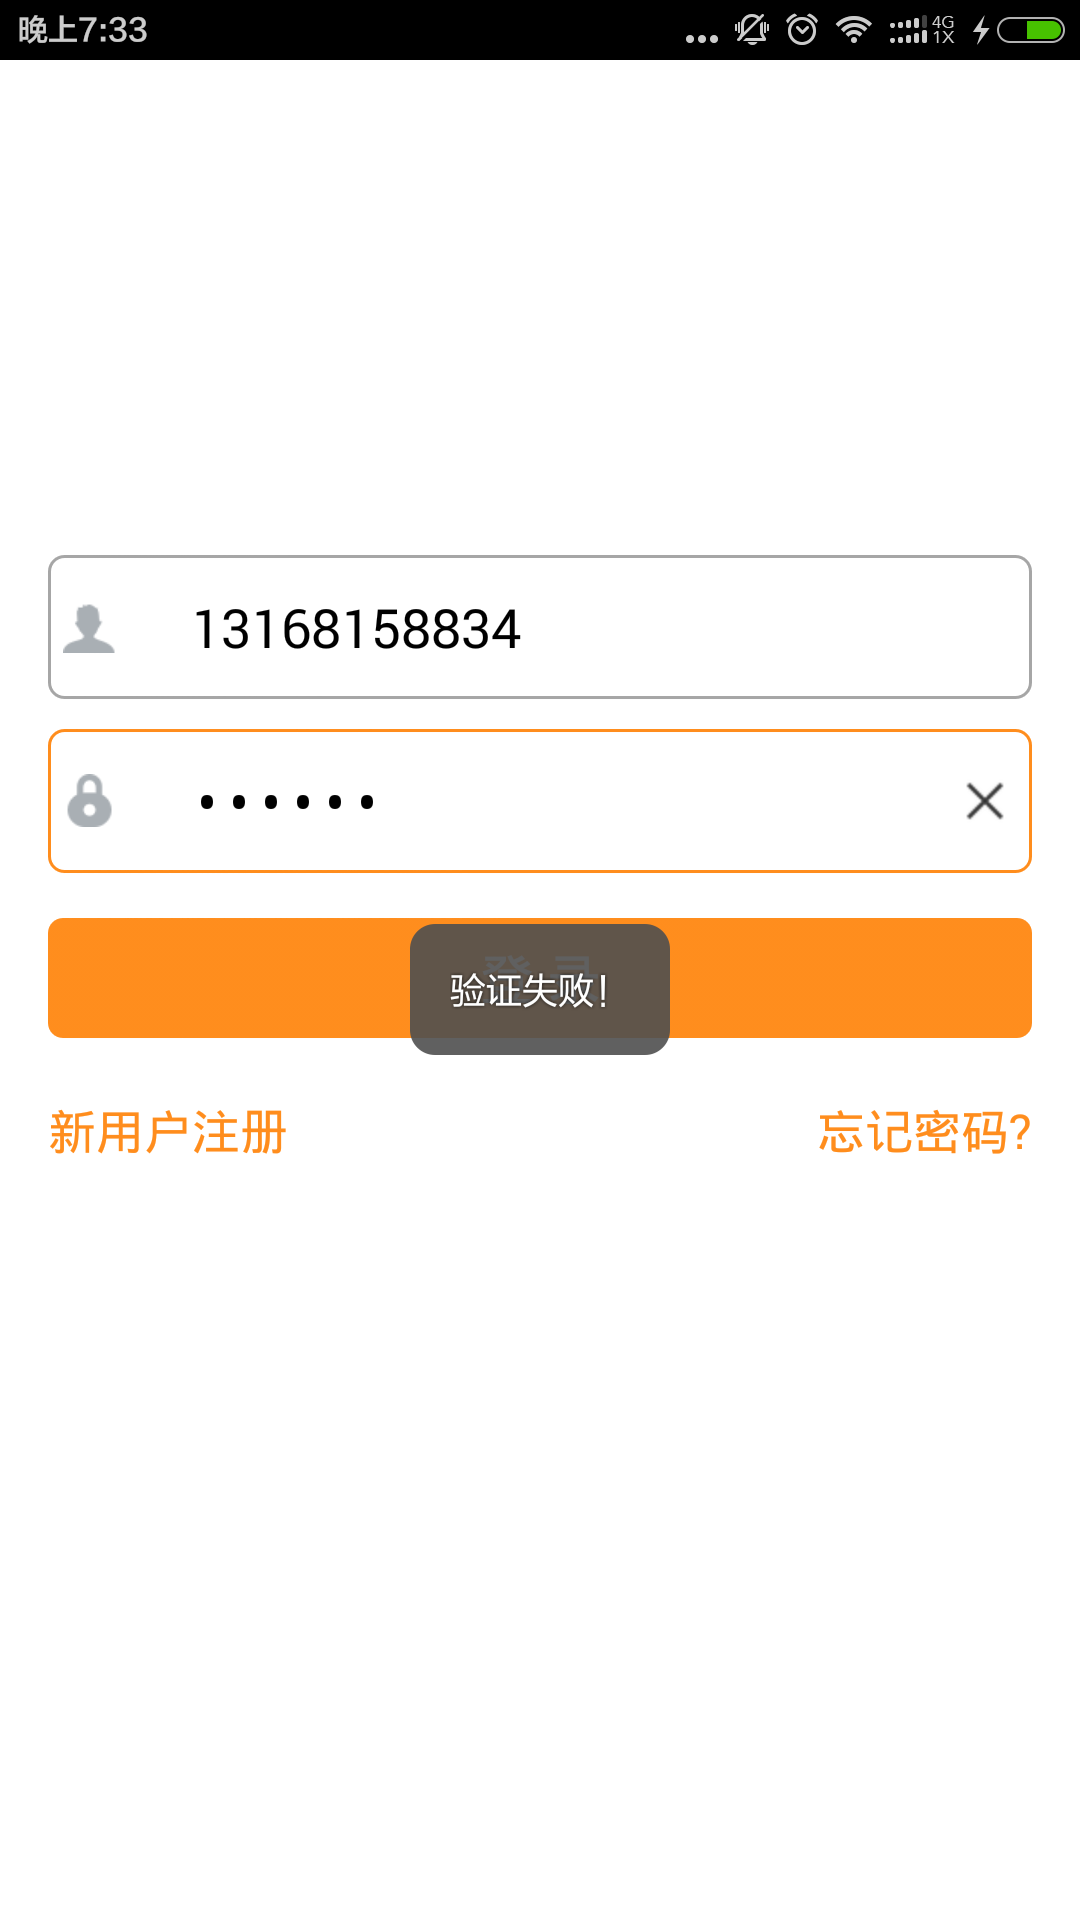alert: (404, 931, 676, 1064)
textview: (40, 724, 1040, 891), (40, 549, 1050, 713)
